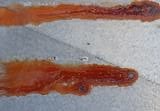Corrosion: (1, 57, 139, 99), (1, 1, 160, 28)
